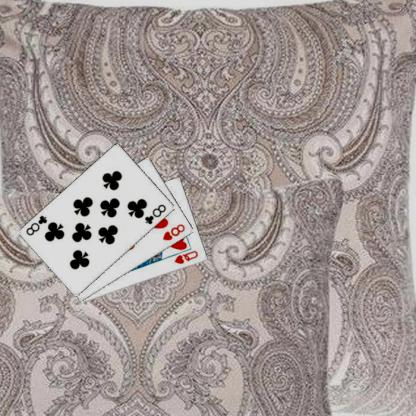8C: (144, 201, 169, 226), (25, 213, 50, 237)
8H: (162, 221, 188, 242)
QH: (174, 248, 202, 265)
